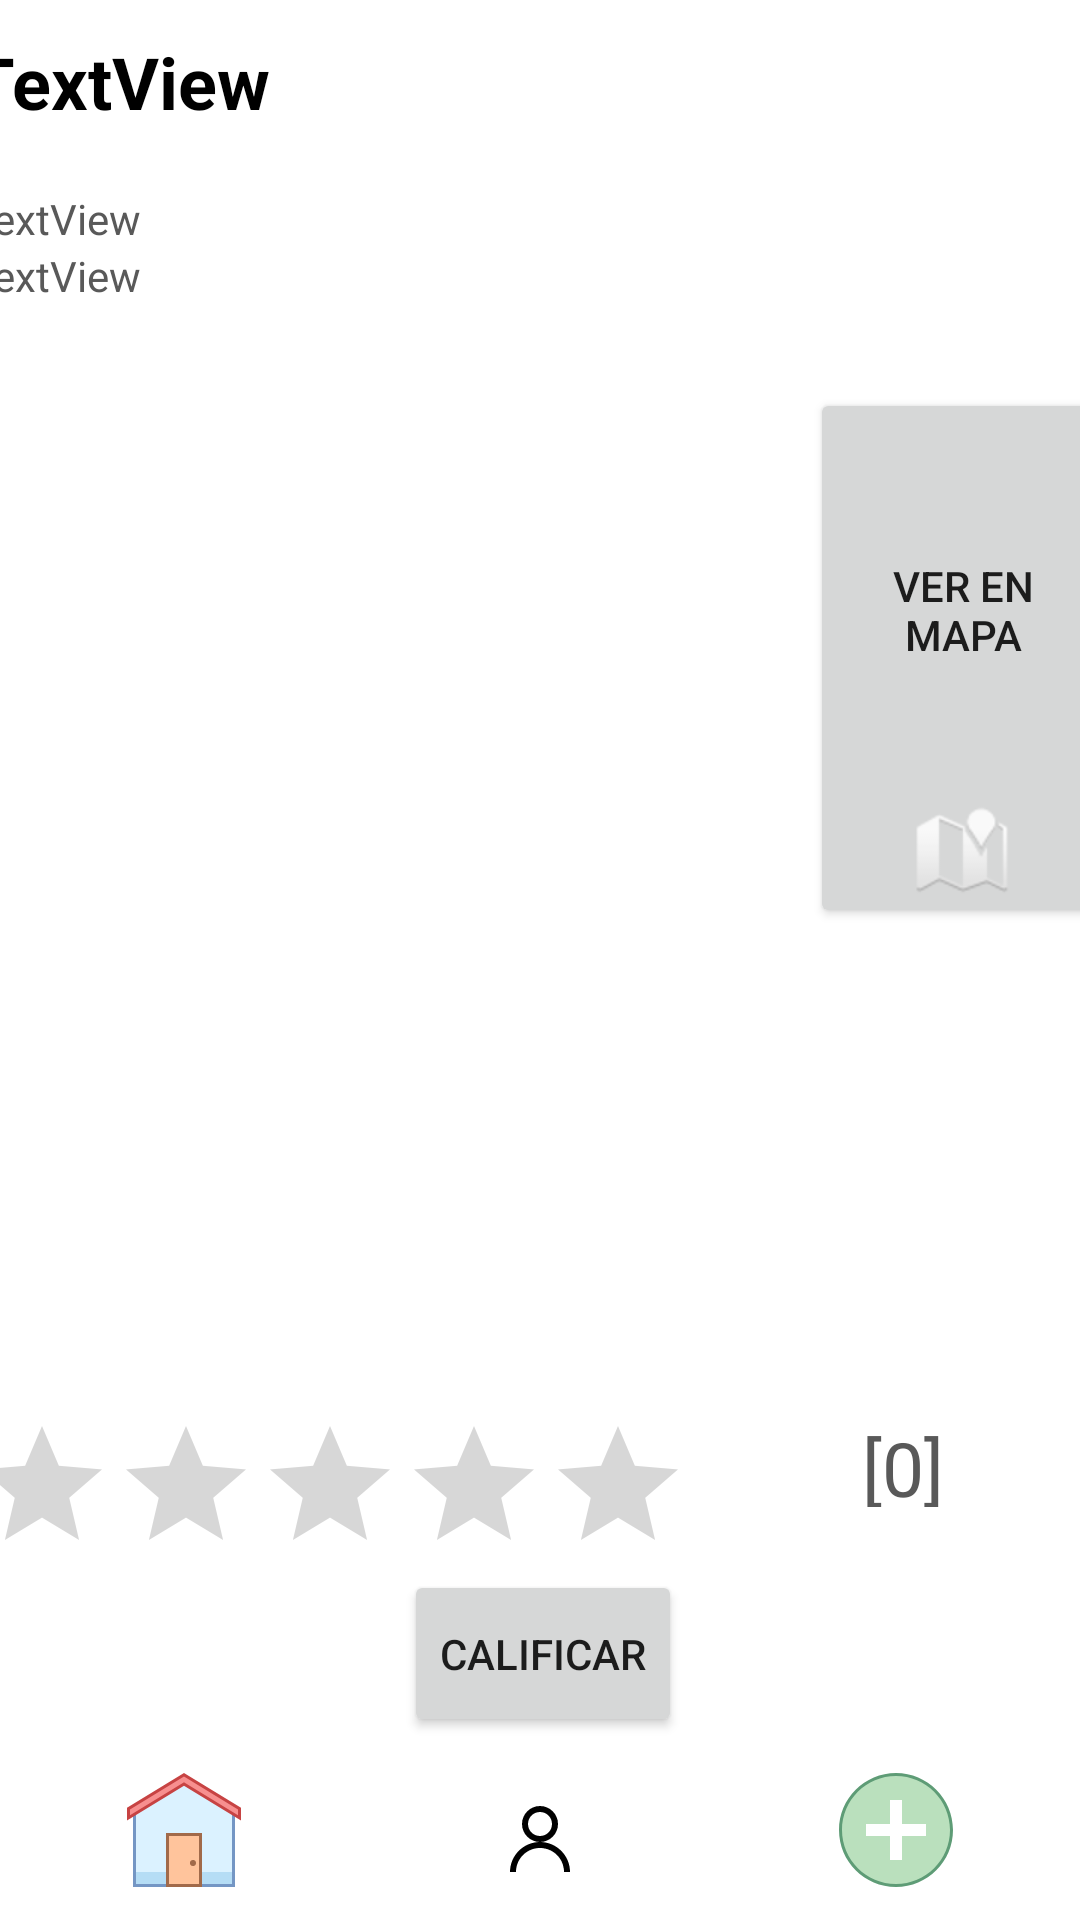

Icons on this 1080 x 1920 Android screen, each with the point to tap as point (x, y):
addplace: point (896, 1830)
home: point (184, 1830)
porfilesettings: point (540, 1839)
